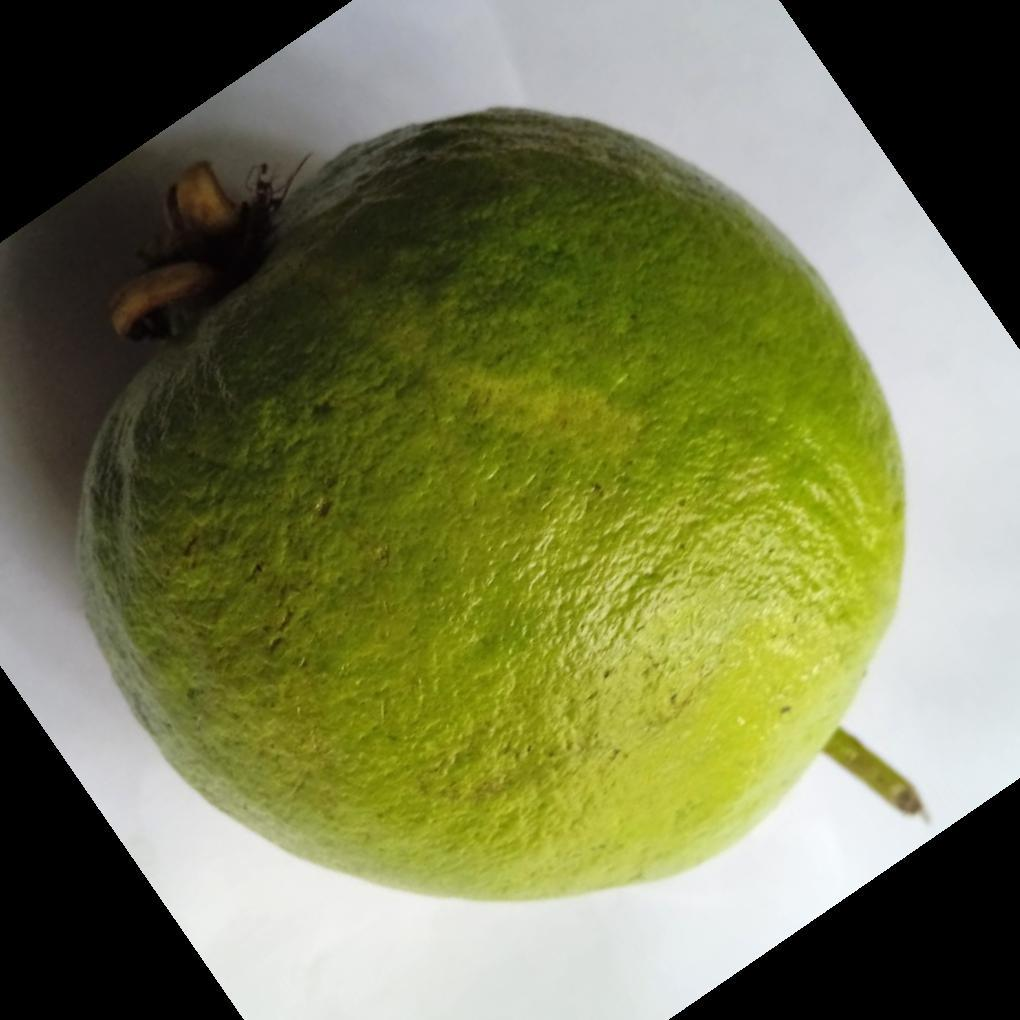FreshGuava: (73, 108, 909, 909)
